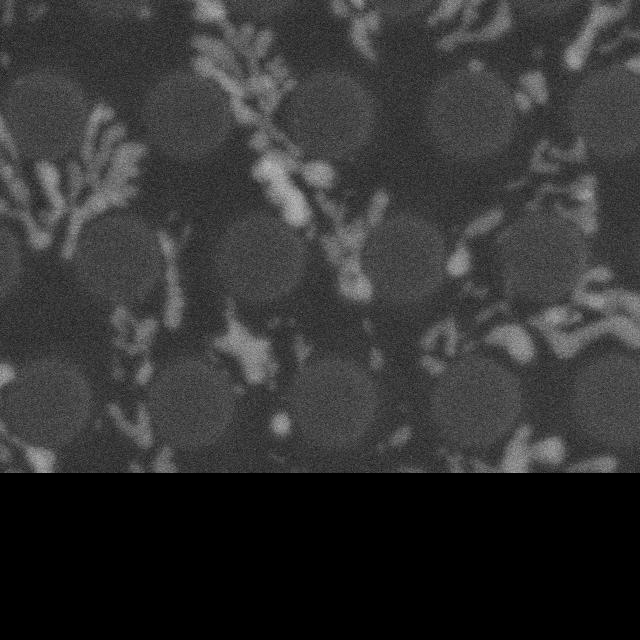Dendrite: (100, 0, 337, 226), (0, 97, 146, 261), (519, 265, 640, 358), (320, 190, 386, 302), (0, 363, 57, 473), (212, 299, 277, 384), (564, 0, 640, 70), (469, 425, 563, 473), (526, 173, 598, 233), (157, 210, 190, 329), (112, 307, 159, 385), (446, 211, 499, 277), (439, 5, 513, 50), (435, 0, 494, 53), (530, 137, 591, 174), (474, 286, 525, 330), (482, 322, 536, 363), (107, 402, 152, 448), (9, 436, 56, 473), (588, 24, 640, 57), (421, 317, 461, 355), (517, 72, 547, 112), (375, 423, 411, 454), (364, 321, 386, 369), (568, 455, 617, 473), (456, 278, 489, 304), (151, 448, 178, 473), (292, 335, 314, 364), (418, 353, 445, 376), (272, 411, 291, 438), (463, 55, 493, 71), (499, 176, 527, 192), (367, 349, 385, 369), (529, 44, 545, 64), (449, 458, 467, 473)
